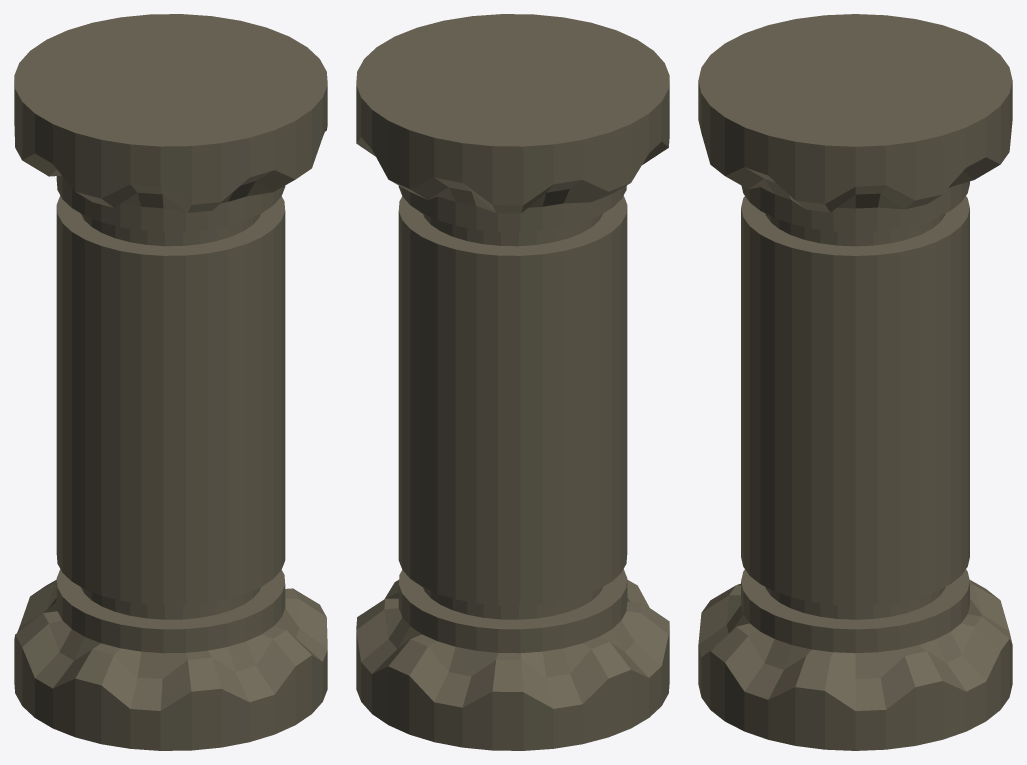
File: Coloumn2.fbx
The picture shows the model from 3 angles, left to right: view 1: azimuth 30°, elevation 25°; view 2: azimuth 150°, elevation 25°; view 3: azimuth 270°, elevation 25°; orthographic projection.
Parts seen in each view (by area): view 1: Coloumn2; view 2: Coloumn2; view 3: Coloumn2.
Boxes of the visible parts, x1,y1,x2,y2 form: Coloumn2: (14,14,327,750); Coloumn2: (356,14,669,750); Coloumn2: (698,14,1012,750).
Size of the model in its own units: 94.26 by 200 by 94.26.
